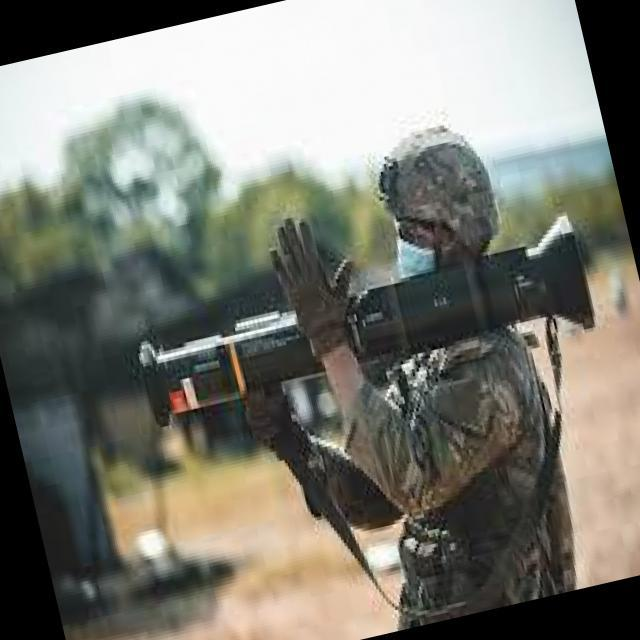rocket: (123, 204, 609, 432)
